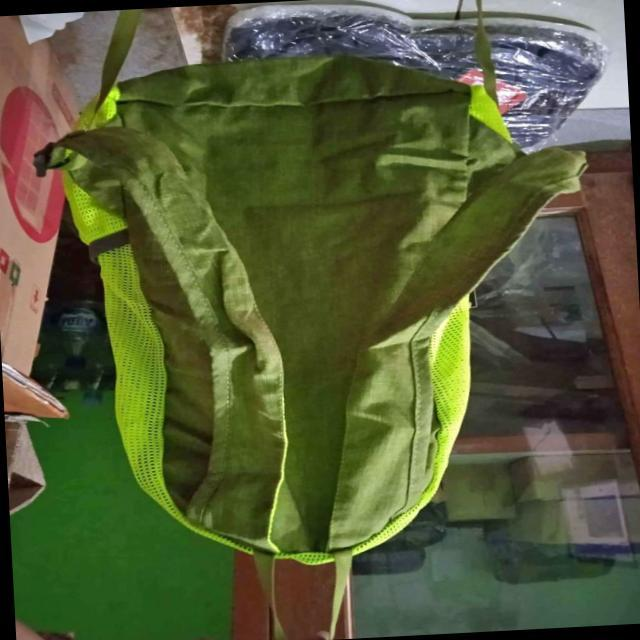bag: (67, 55, 572, 563)
